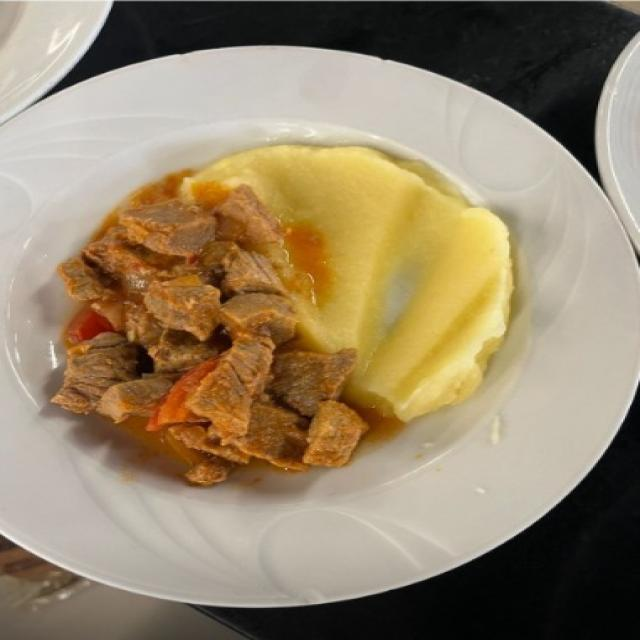ana_yemek: (41, 118, 534, 564)
